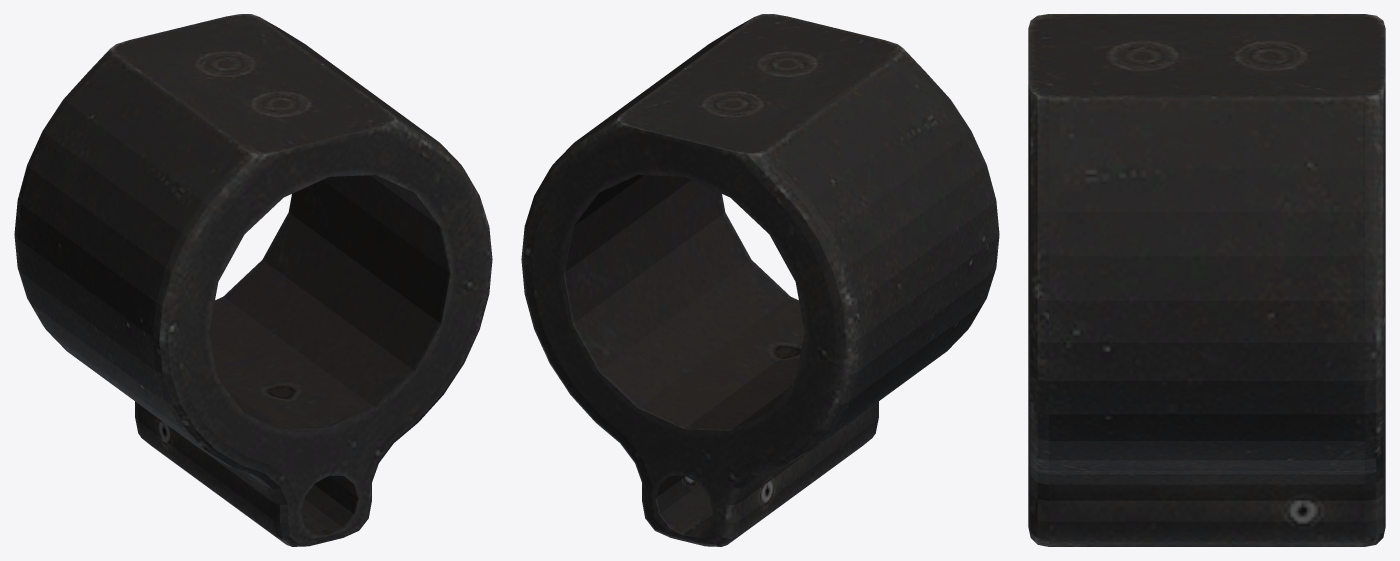
3 views of the same model, side by side, from view 1: azimuth 30°, elevation 25°; view 2: azimuth 150°, elevation 25°; view 3: azimuth 270°, elevation 25° (orthographic). The views are drawn at different scales.
Parts seen in each view (by area): view 1: TW_5dfa3d45dfc58d14537c20b0_PZ_Import; view 2: TW_5dfa3d45dfc58d14537c20b0_PZ_Import; view 3: TW_5dfa3d45dfc58d14537c20b0_PZ_Import.
Boxes of the visible parts, left/top/right/bottom form: TW_5dfa3d45dfc58d14537c20b0_PZ_Import: left=14, top=14, right=492, bottom=546; TW_5dfa3d45dfc58d14537c20b0_PZ_Import: left=521, top=14, right=999, bottom=546; TW_5dfa3d45dfc58d14537c20b0_PZ_Import: left=1028, top=14, right=1385, bottom=546.
Size of the model in its own units: 0.0155 by 0.0122 by 0.0179.
Materials: 1 (1 with a texture image).
